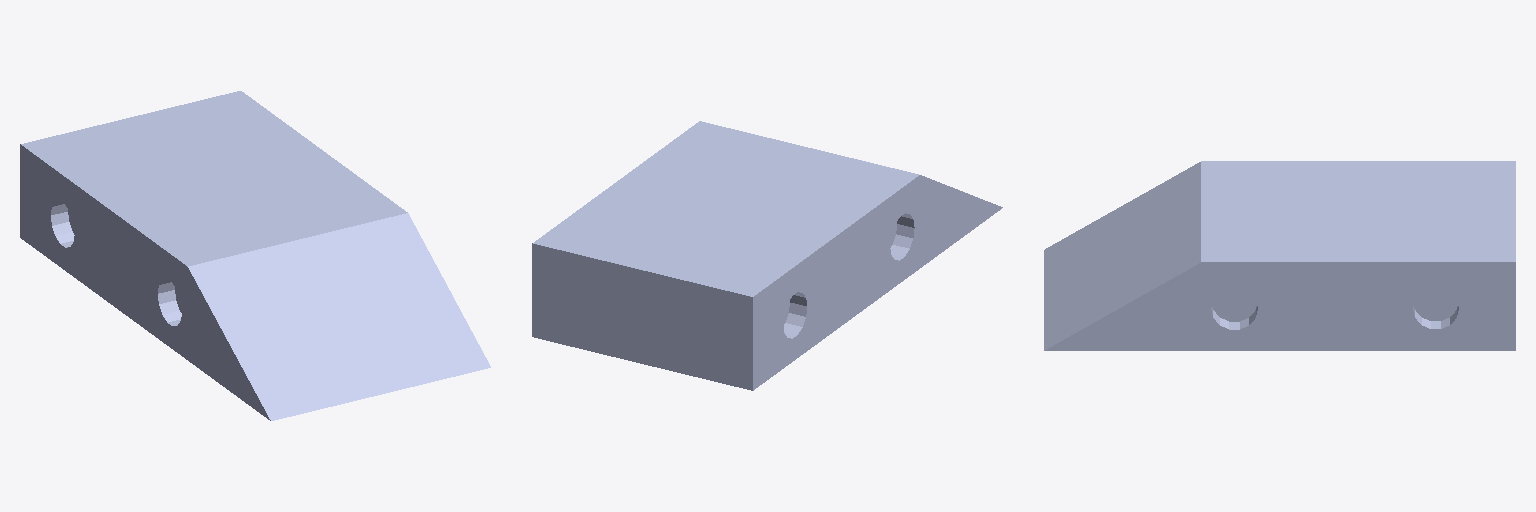
URDF robot description (arena.SLDASM):
<?xml version="1.0" encoding="utf-8"?>
<!-- This URDF was automatically created by SolidWorks to URDF Exporter! Originally created by [author] ([email redacted]) 
     Commit Version: 1.6.0-1-g15f4949  Build Version: 1.6.7594.29634
     For more information, please see http://wiki.ros.org/sw_urdf_exporter -->
<robot
  name="arena.SLDASM">
  <link
    name="base_link">
    <inertial>
      <origin
        xyz="-0.028945 0.022907 0.00635"
        rpy="0 0 0" />
      <mass
        value="23.656" />
      <inertia
        ixx="3.5067"
        ixy="-7.5241E-34"
        ixz="-3.7616E-34"
        iyy="3.5067"
        iyz="2.1468E-16"
        izz="7.0127" />
    </inertial>
    <visual>
      <origin
        xyz="0 0 0"
        rpy="0 0 0" />
      <geometry>
        <mesh
          filename="package://arena.SLDASM/meshes/base_link.STL" />
      </geometry>
      <material
        name="">
        <color
          rgba="0.79216 0.81961 0.93333 1" />
      </material>
    </visual>
    <collision>
      <origin
        xyz="0 0 0"
        rpy="0 0 0" />
      <geometry>
        <mesh
          filename="package://arena.SLDASM/meshes/base_link.STL" />
      </geometry>
    </collision>
  </link>
</robot>

--- What the picture shows (computed from the rendered views, not written in the file) ---
3 views of the same robot in one strip: view 1: azimuth 30°, elevation 25°; view 2: azimuth 150°, elevation 25°; view 3: azimuth 270°, elevation 25° (orthographic).
Robot: arena.SLDASM — 1 links, 0 joints (none); root link base_link; default pose: every joint at zero.
Links seen in each view (by area): view 1: base_link; view 2: base_link; view 3: base_link.
Boxes of the visible links, x1,y1,x2,y2 form: base_link: (20, 91, 490, 420); base_link: (532, 121, 1002, 390); base_link: (1044, 161, 1515, 350).
Bounding box of the posed robot: 0.1016 × 0.2 × 0.0413 m (x, y, z).
Meshes: 1 distinct files referenced, 1 mesh visuals loaded (1 binary STL).